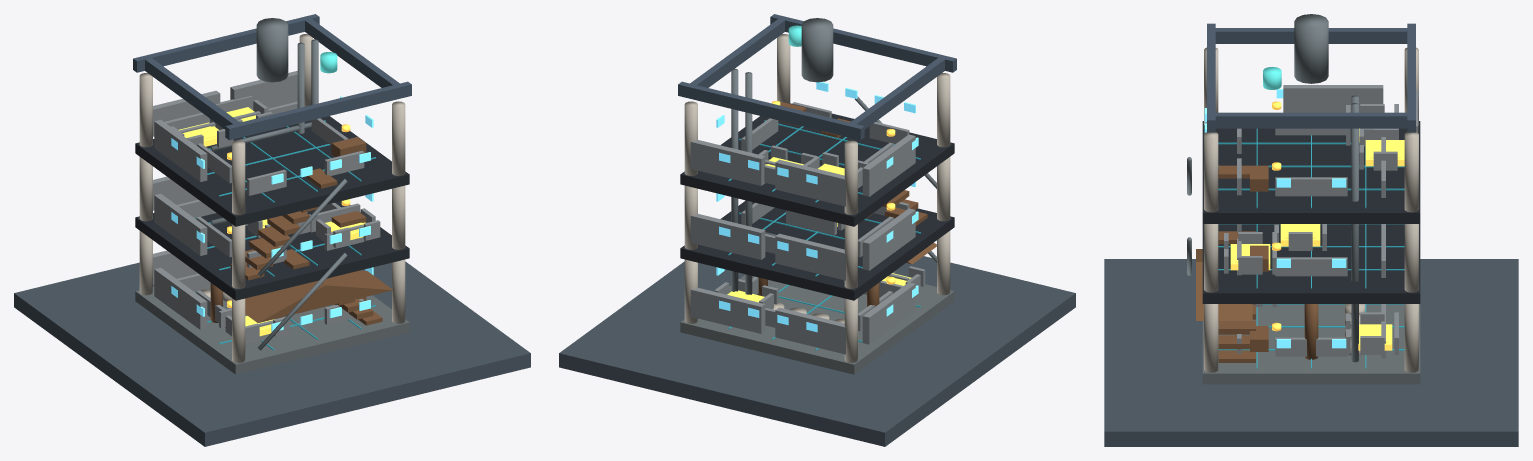
3 renders of one model, left to right at view 1: azimuth 30°, elevation 25°; view 2: azimuth 150°, elevation 25°; view 3: azimuth 270°, elevation 25°, orthographic. The views are drawn at different scales.
Visible parts, largest first — view 1: ProfileGround.014, BuildingFloor_3.007, BuildingFloor_2.011, BuildingFloor_1.011, MineTimber_visual_mine, RoofSouth.002, RoofNorth.002, BuildingVerticalLandmark.002, SideWall_3.007, SideWall_1.011, SideWall_2.011, RoofWest.002 (+24 smaller); view 2: ProfileGround.014, BuildingFloor_3.007, BuildingFloor_2.011, BuildingFloor_1.011, RoofNorth.002, BackWall_1_1.011, BackWall_2_1.011, BackWall_3_1.007, BackWall_3_-1.007, BackWall_2_-1.011, BackWall_1_-1.011, RoofSouth.002 (+21 smaller); view 3: ProfileGround.014, BuildingFloor_3.007, BuildingFloor_2.011, BuildingFloor_1.011, RoofEast.002, RoofWest.002, SideWall_3.007, BuildingVerticalLandmark.002, VerticalPipe_1.002, FloorRooms_visual_mine_2_East, Column_3_1_-1.007, Column_3_1_1.007 (+21 smaller).
Boxes of the visible parts, bbox=[...] form: ProfileGround.014: bbox=[14, 261, 530, 446]; BuildingFloor_3.007: bbox=[135, 116, 409, 226]; BuildingFloor_2.011: bbox=[135, 201, 409, 300]; BuildingFloor_1.011: bbox=[135, 287, 409, 374]; MineTimber_visual_mine: bbox=[245, 270, 392, 322]; RoofSouth.002: bbox=[225, 81, 411, 140]; RoofNorth.002: bbox=[133, 14, 319, 72]; BuildingVerticalLandmark.002: bbox=[256, 18, 288, 82]; SideWall_3.007: bbox=[154, 119, 207, 181]; SideWall_1.011: bbox=[154, 267, 207, 329]; SideWall_2.011: bbox=[154, 193, 207, 255]; RoofWest.002: bbox=[145, 58, 239, 129]; ProfileGround.014: bbox=[559, 256, 1075, 446]; BuildingFloor_3.007: bbox=[680, 103, 954, 226]; BuildingFloor_2.011: bbox=[680, 201, 954, 300]; BuildingFloor_1.011: bbox=[680, 275, 954, 374]; RoofNorth.002: bbox=[678, 81, 864, 140]; BackWall_1_1.011: bbox=[690, 287, 765, 333]; BackWall_2_1.011: bbox=[690, 213, 765, 259]; BackWall_3_1.007: bbox=[690, 140, 765, 185]; BackWall_3_-1.007: bbox=[775, 159, 845, 206]; BackWall_2_-1.011: bbox=[775, 233, 845, 280]; BackWall_1_-1.011: bbox=[775, 307, 845, 354]; RoofSouth.002: bbox=[770, 14, 956, 72]; ProfileGround.014: bbox=[1104, 259, 1518, 446]; BuildingFloor_3.007: bbox=[1202, 121, 1420, 223]; BuildingFloor_2.011: bbox=[1202, 224, 1420, 303]; BuildingFloor_1.011: bbox=[1202, 304, 1420, 384]; RoofEast.002: bbox=[1213, 112, 1409, 128]; RoofWest.002: bbox=[1213, 28, 1409, 43]; SideWall_3.007: bbox=[1283, 85, 1383, 112]; BuildingVerticalLandmark.002: bbox=[1294, 14, 1328, 83]; VerticalPipe_1.002: bbox=[1351, 103, 1358, 362]; FloorRooms_visual_mine_2_East: bbox=[1275, 177, 1347, 196]; Column_3_1_-1.007: bbox=[1204, 132, 1218, 212]; Column_3_1_1.007: bbox=[1404, 132, 1418, 212].
Size of the model in its own units: 4.8 by 4.4 by 4.86.
